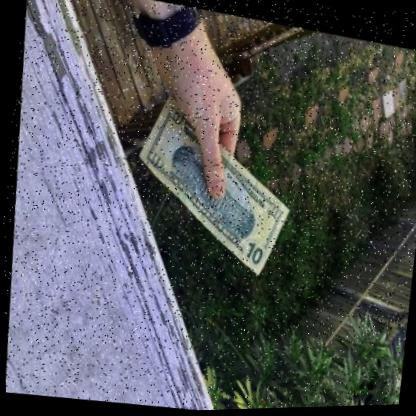ten-back: (135, 91, 287, 272)
